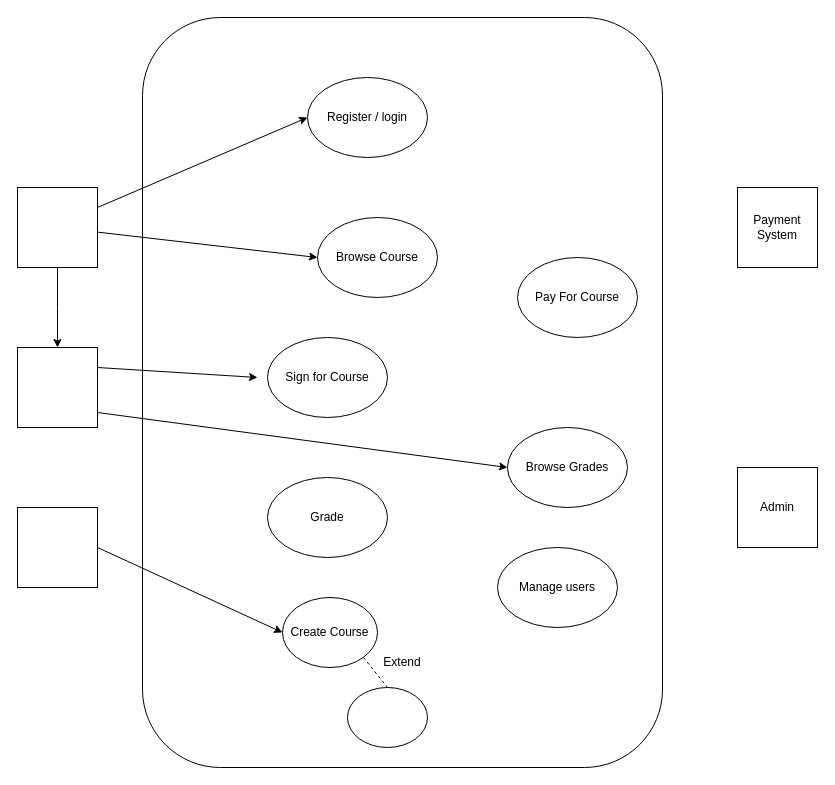
Some shapes in this 835 by 785 pixel diagram are drawn without their labels. The shapes that lost their labels are listed below. From the top down, each one's box as (x1, y1, x2, y2) in pixels, then its label:
(16, 186, 98, 268): Guest
(16, 346, 98, 428): Student
(16, 506, 98, 588): Teacher
(346, 686, 428, 748): Manage Course
